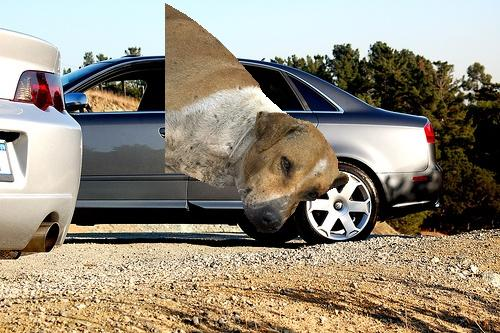tampered: (166, 4, 349, 233)
